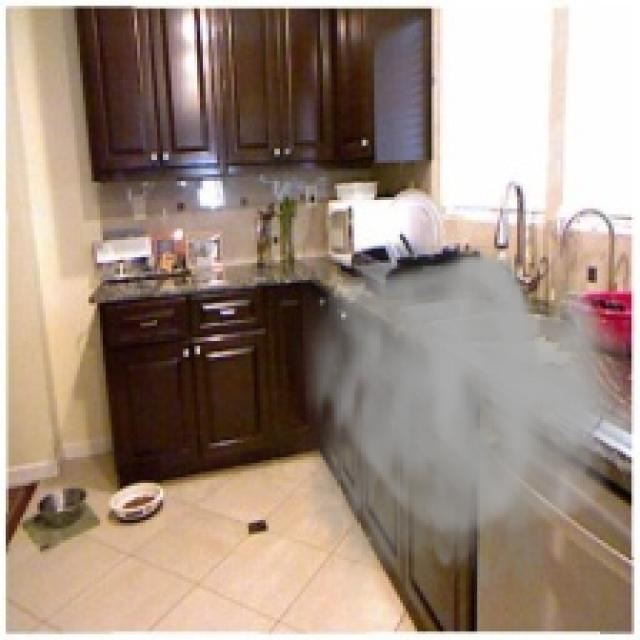smoke: (283, 246, 634, 637)
